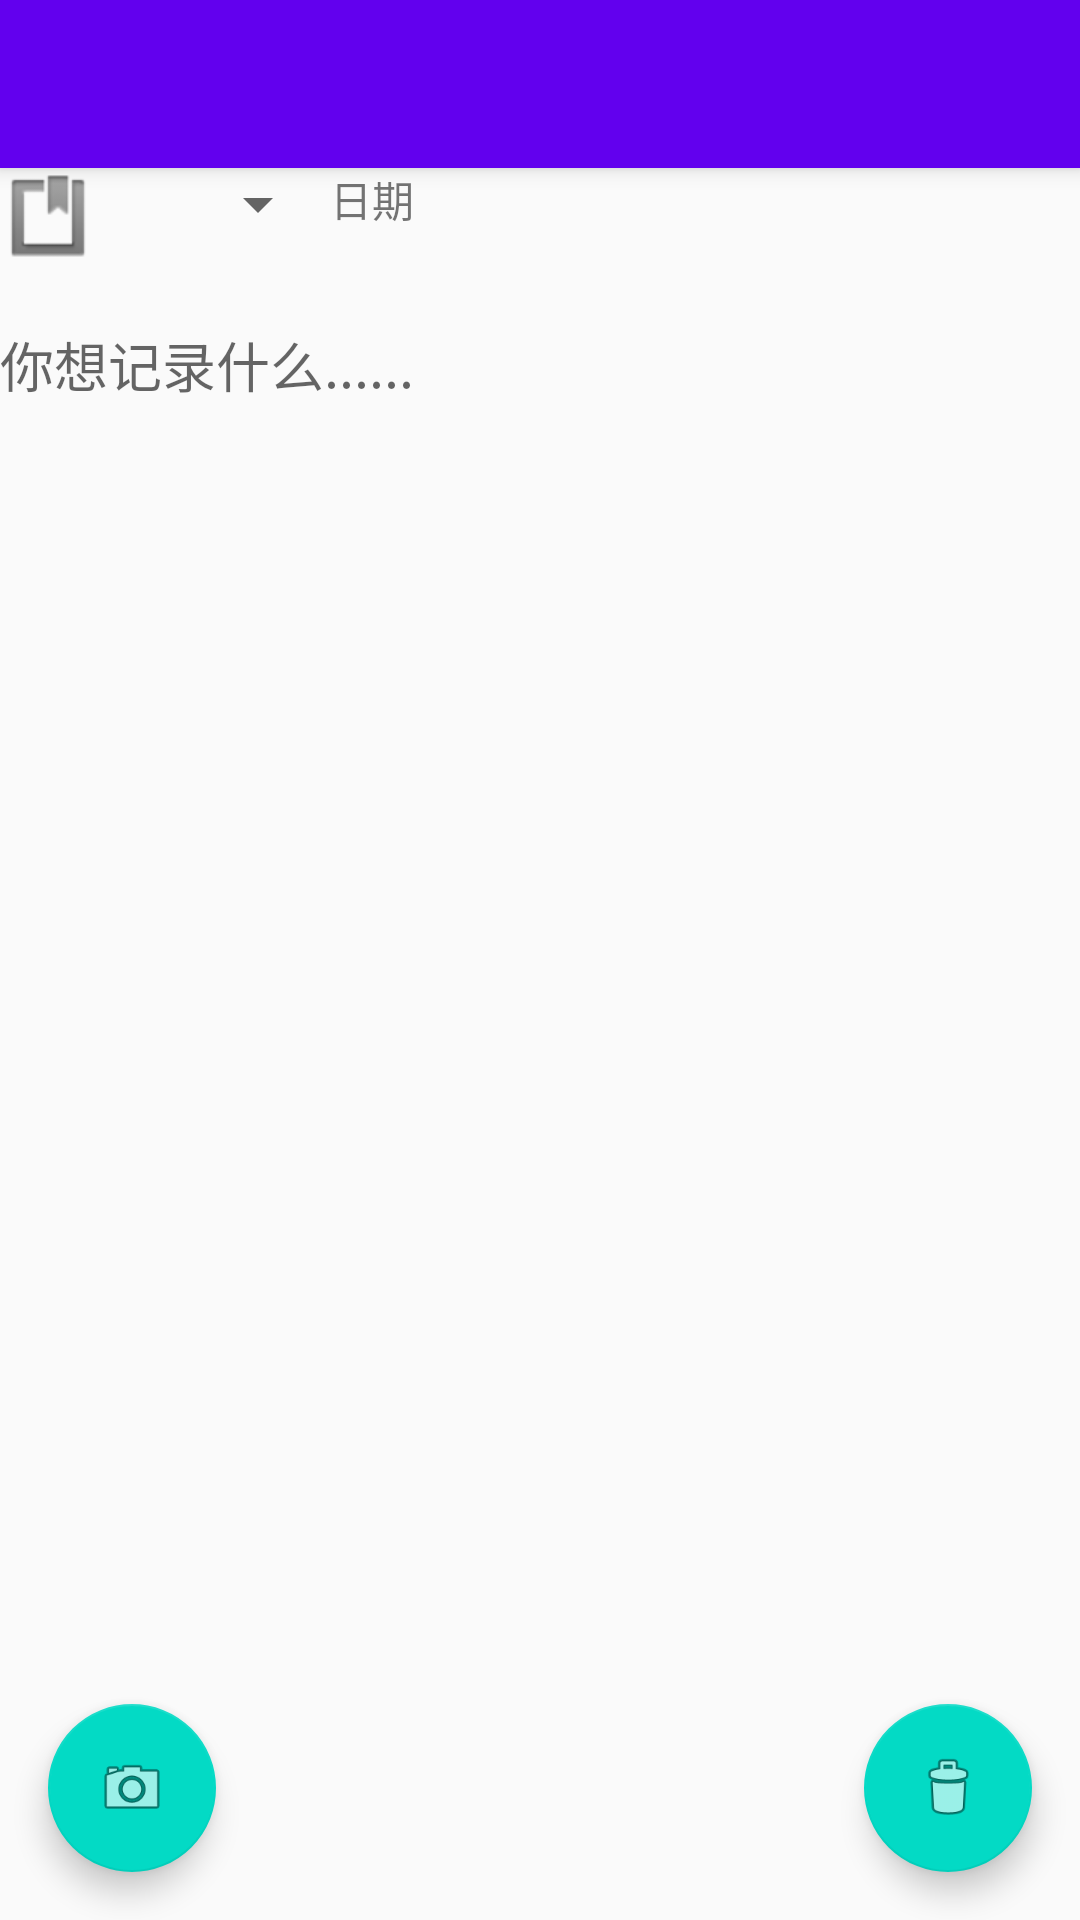

Screen size 1080×1920. Icon name, then its center in pixels as [x,y]:
camera: [132,1788]
delete: [948,1788]
